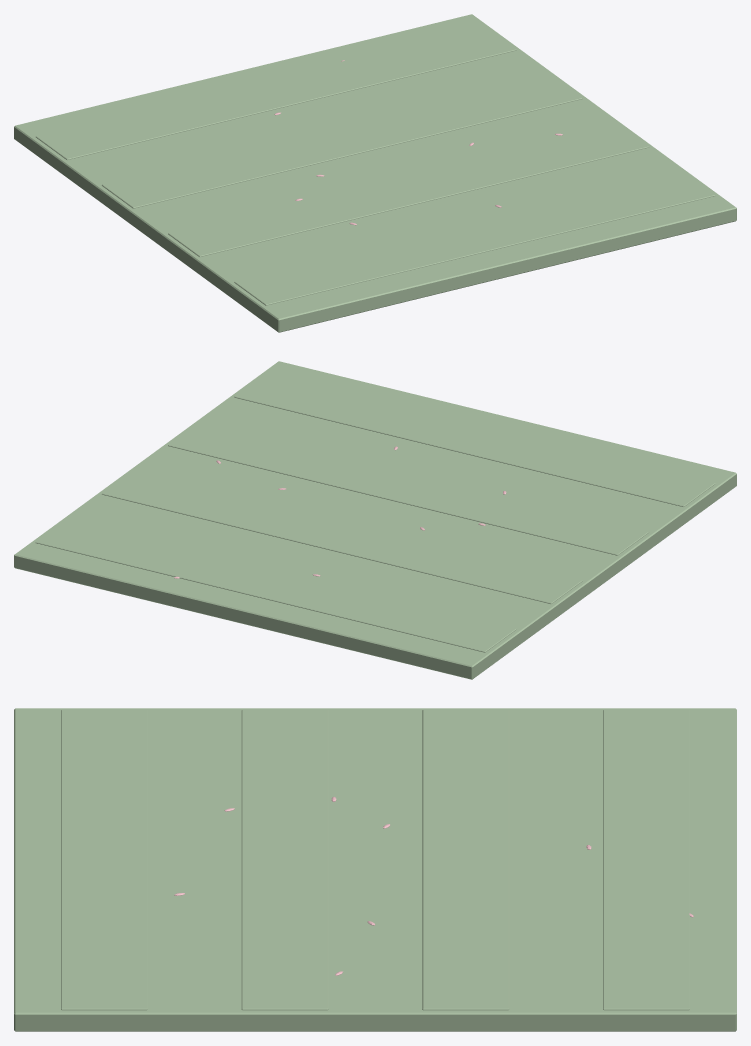
The model's file is wedding-and-chapel-kit-garden-lawn-tile-6d70b9cd__39380.glb.
3 views of the same model, one above another, from view 1: azimuth 30°, elevation 25°; view 2: azimuth 150°, elevation 25°; view 3: azimuth 270°, elevation 25° (orthographic). The views are drawn at different scales.
Visible parts, largest first — view 1: garden-lawn-tile; view 2: garden-lawn-tile; view 3: garden-lawn-tile.
Part boxes in pixels (x1,y1,x2,y2): garden-lawn-tile: [14, 14, 736, 332]; garden-lawn-tile: [14, 361, 736, 679]; garden-lawn-tile: [14, 708, 736, 1031].
Bounding box in the file's own units: 2 × 0.062 × 2.
